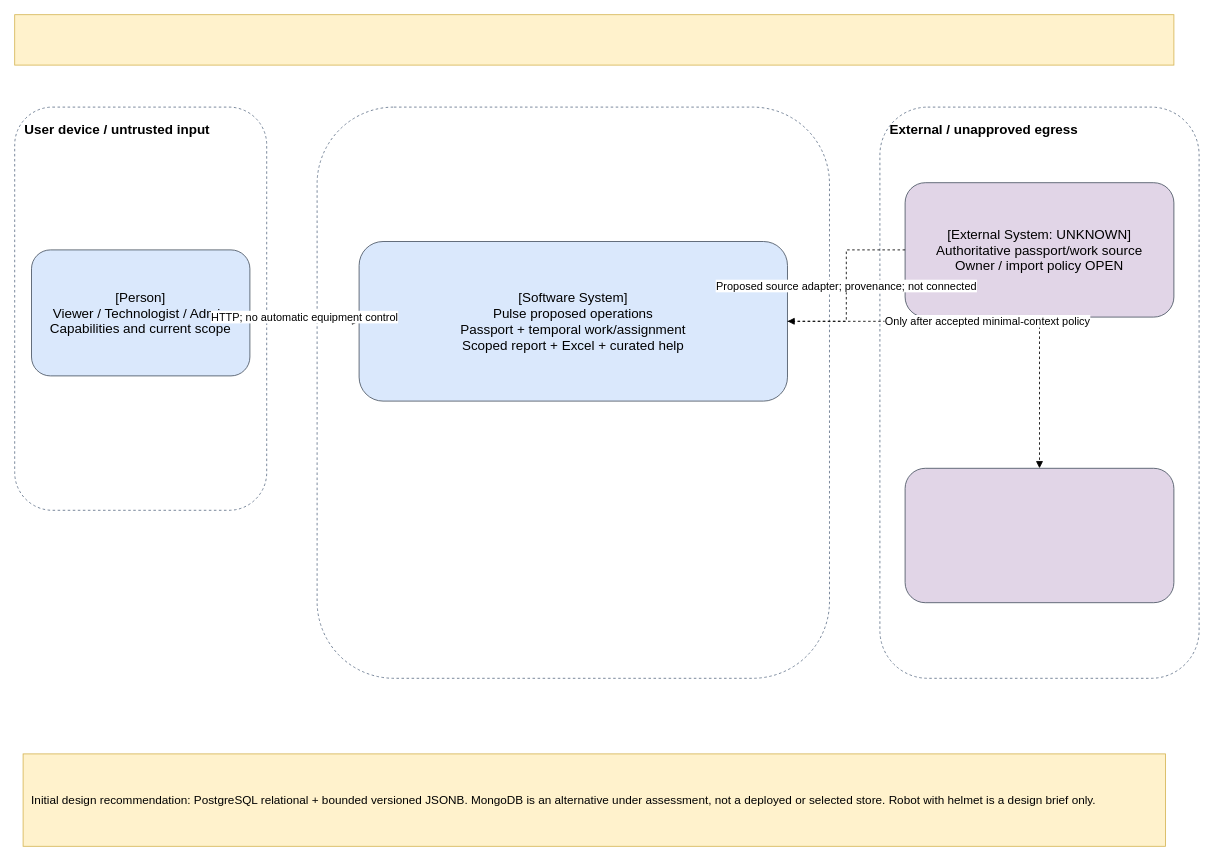
This 1214x861 diagram has some shape labels left out. Here are the shapes that lost their labels. From the top down, the box of each, then its label:
(14, 14, 1174, 65): PROPOSED • C1 Context • not approved for implementation
(316, 106, 830, 678): Pulse operated trust zone
(904, 467, 1174, 603): [Optional External System] Help provider NOT SELECTED Egress/cost/retention gate
